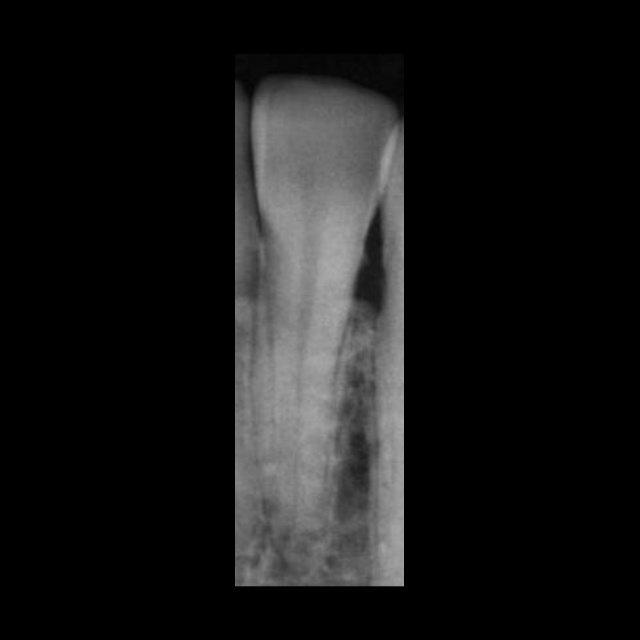tooth: (249, 77, 403, 577)
